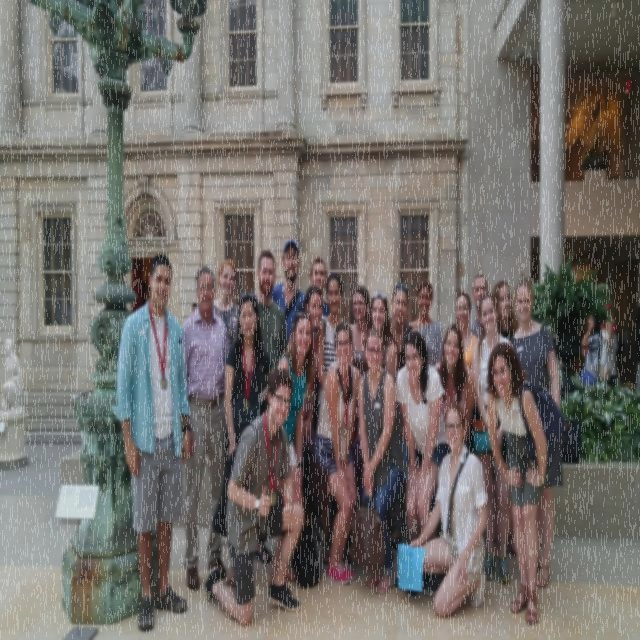pessoa: (116, 253, 192, 633), (204, 366, 306, 629), (486, 341, 566, 627), (397, 400, 487, 620), (177, 263, 230, 591), (508, 274, 561, 589), (349, 326, 407, 596), (223, 288, 275, 588), (305, 318, 362, 586), (266, 310, 316, 590), (471, 291, 514, 584), (394, 330, 450, 552), (315, 272, 352, 564), (286, 284, 323, 569), (232, 250, 289, 416), (491, 280, 522, 560), (357, 292, 397, 447), (433, 323, 476, 451), (269, 237, 308, 351), (348, 284, 373, 422), (408, 278, 444, 372), (211, 258, 240, 348), (390, 280, 416, 370), (452, 292, 480, 373), (1, 333, 26, 419), (579, 310, 603, 386), (309, 256, 331, 336), (468, 273, 494, 338), (599, 308, 618, 389), (635, 304, 640, 405), (192, 302, 198, 314), (599, 318, 605, 329), (604, 302, 611, 308)
